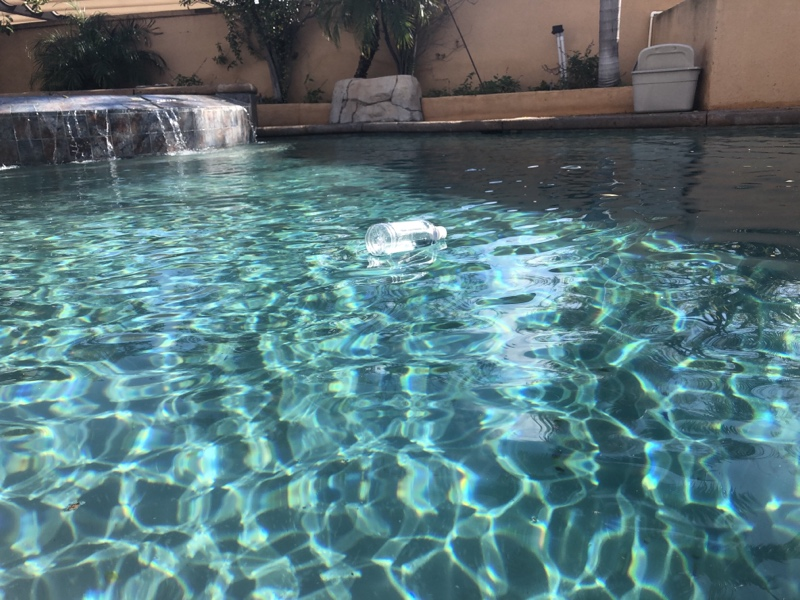Plastic Bottle: (363, 214, 450, 262)
